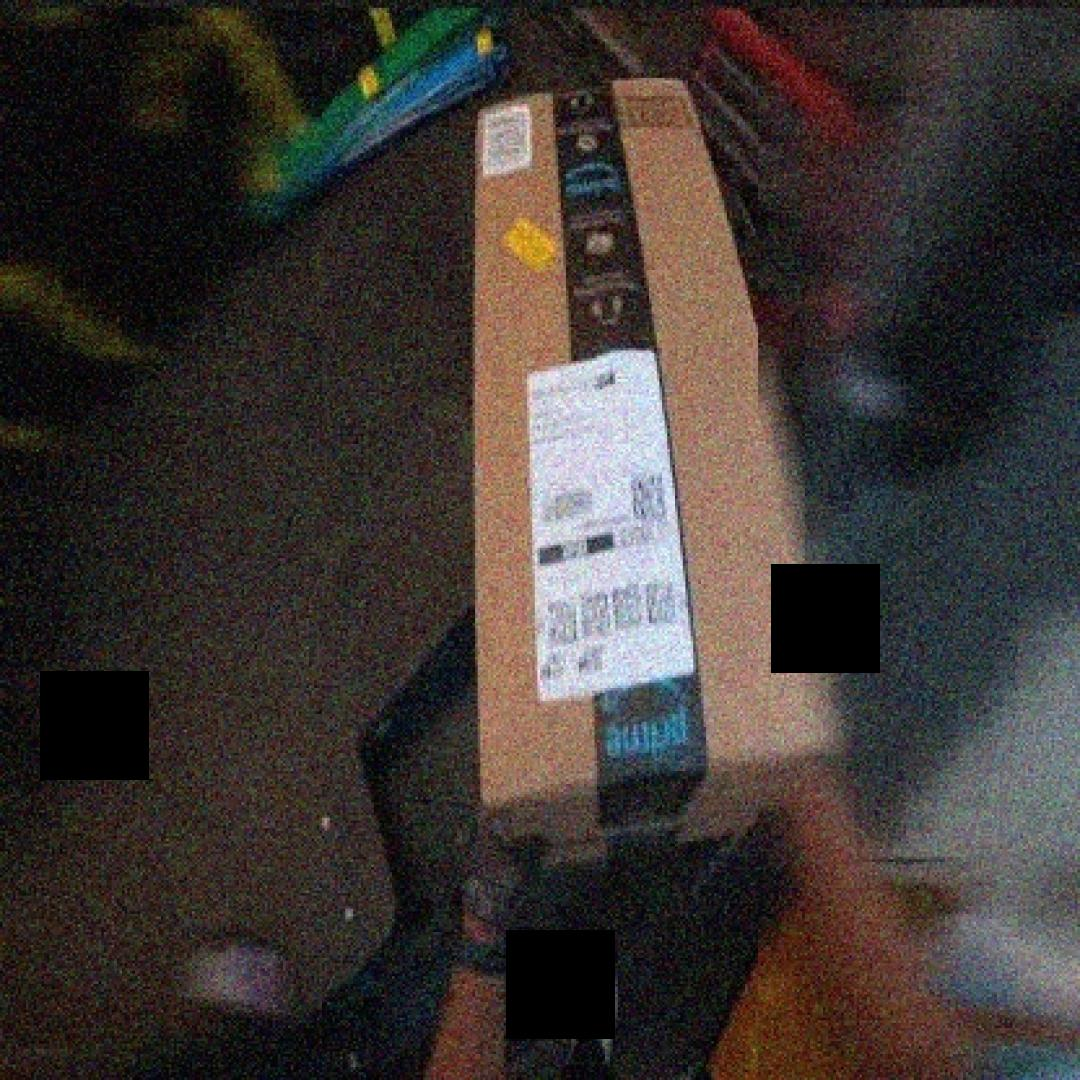package: (472, 70, 844, 893)
